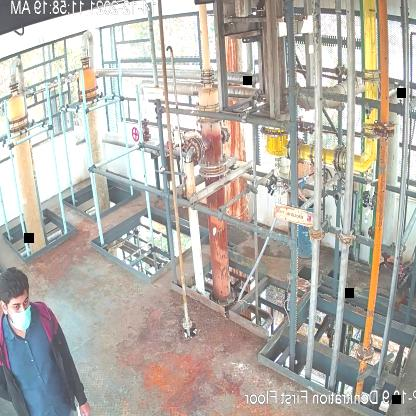no_goggles: (10, 296, 30, 313)
